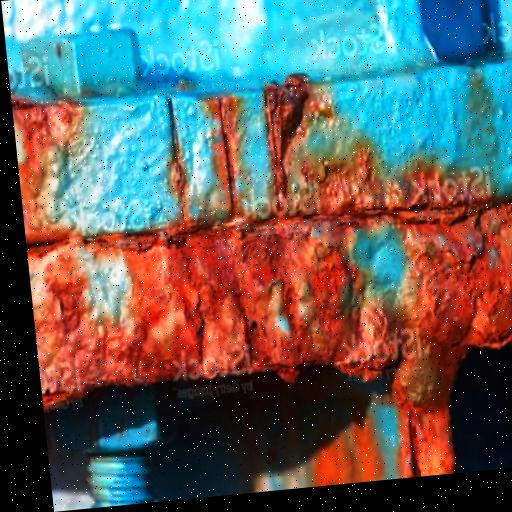corrosion: (25, 190, 512, 409), (10, 85, 94, 209)
crack: (194, 89, 244, 217), (151, 93, 194, 232), (395, 405, 429, 478)
